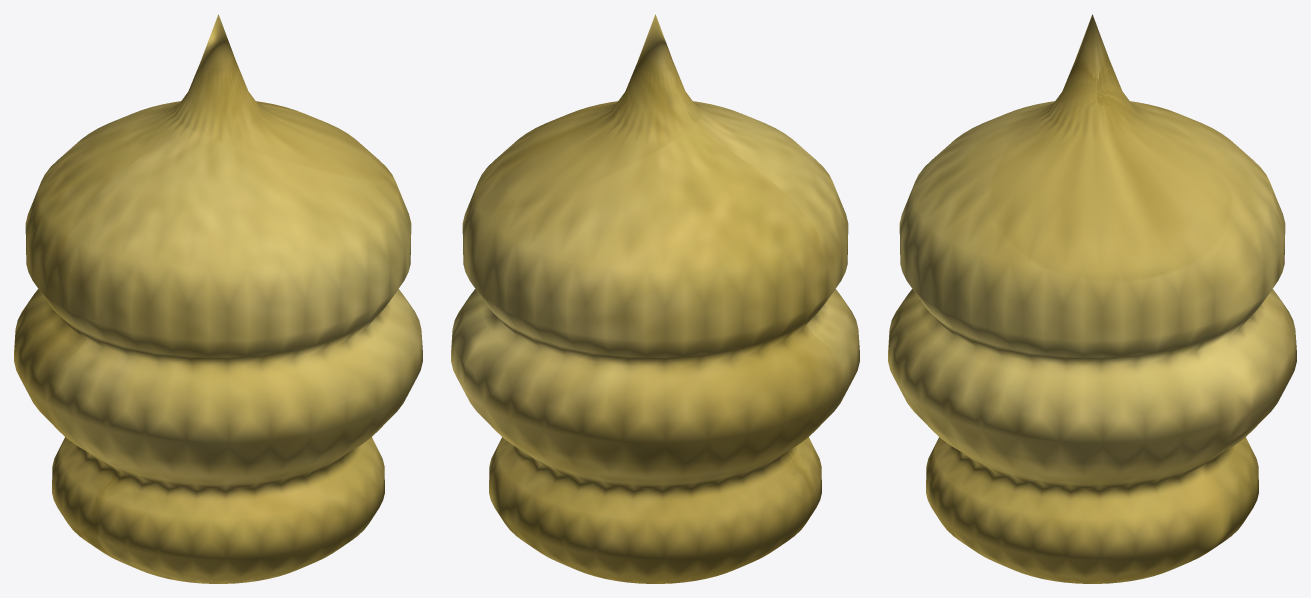
File: Beehive.gltf
3 renders of one model, left to right at view 1: azimuth 30°, elevation 25°; view 2: azimuth 150°, elevation 25°; view 3: azimuth 270°, elevation 25°, orthographic.
Visible parts, largest first — view 1: Beehive; view 2: Beehive; view 3: Beehive.
Part boxes in pixels (x1,y1,x2,y2): Beehive: (14,14,422,583); Beehive: (451,14,859,583); Beehive: (888,14,1296,583).
Size of the model in its own units: 1.2 by 1.72 by 1.2.
Materials: 1 (1 with a texture image).
